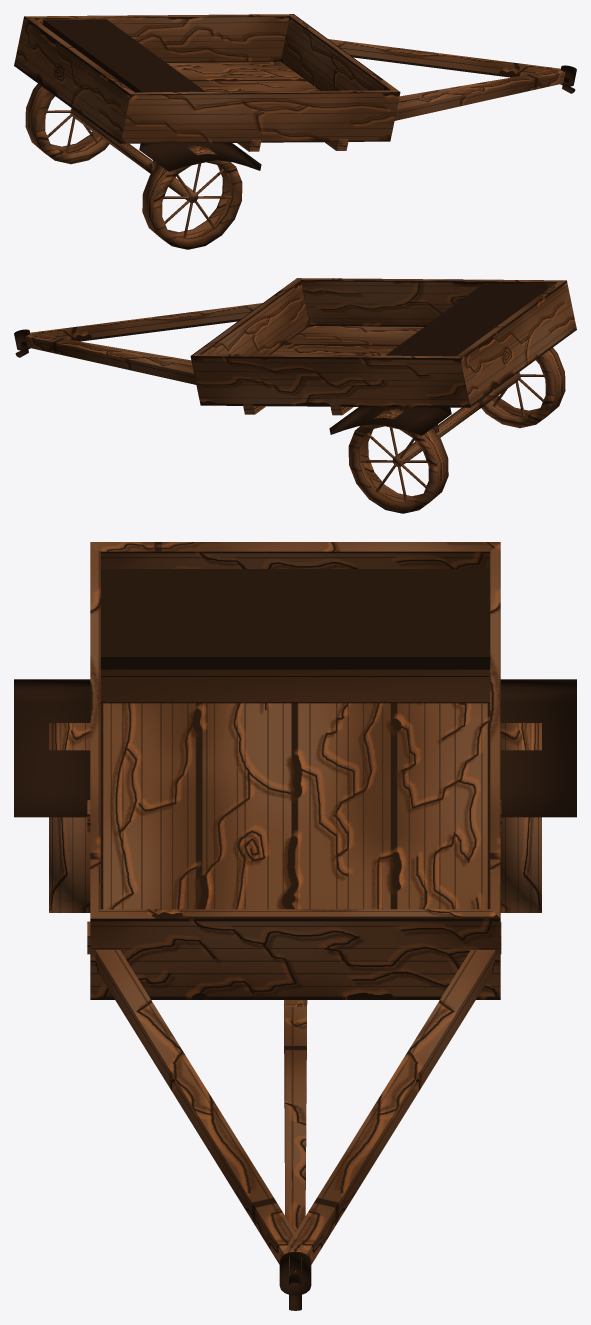
The model's file is model_Carroça_01.fbx.
The picture shows the model from 3 angles, top to bottom: view 1: azimuth 30°, elevation 25°; view 2: azimuth 150°, elevation 25°; view 3: azimuth 270°, elevation 25°; orthographic projection. The views are drawn at different scales.
Visible parts, largest first — view 1: Cube, Cylinder.002, Cube.002, Cube.001, Cube.006, Cylinder.003, Cylinder.004, Cube.007, Cylinder.001; view 2: Cube, Cylinder.002, Cube.002, Cube.001, Cube.006, Cylinder.003, Cylinder.004, Cube.007, Cylinder.001; view 3: Cube, Cube.001, Cube.002, Cube.006, Cylinder.002, Cube.007, Cylinder.001.
Boxes of the visible parts, left/top/right/bottom form: Cube: left=14, top=14, right=400, bottom=143; Cylinder.002: left=25, top=84, right=242, bottom=249; Cube.002: left=328, top=39, right=565, bottom=120; Cube.001: left=43, top=19, right=204, bottom=92; Cube.006: left=139, top=143, right=261, bottom=171; Cylinder.003: left=70, top=108, right=198, bottom=202; Cylinder.004: left=47, top=108, right=231, bottom=238; Cube.007: left=398, top=76, right=520, bottom=103; Cylinder.001: left=560, top=65, right=576, bottom=93; Cube: left=190, top=278, right=576, bottom=407; Cylinder.002: left=348, top=348, right=565, bottom=513; Cube.002: left=25, top=303, right=262, bottom=384; Cube.001: left=386, top=283, right=547, bottom=356; Cube.006: left=329, top=407, right=451, bottom=435; Cylinder.003: left=392, top=372, right=520, bottom=466; Cylinder.004: left=359, top=372, right=543, bottom=502; Cube.007: left=69, top=339, right=192, bottom=367; Cylinder.001: left=14, top=329, right=30, bottom=357; Cube: left=90, top=542, right=500, bottom=999; Cube.001: left=100, top=569, right=490, bottom=703; Cube.002: left=95, top=950, right=495, bottom=1273; Cube.006: left=14, top=679, right=576, bottom=817; Cylinder.002: left=49, top=723, right=541, bottom=912; Cube.007: left=284, top=1000, right=307, bottom=1272; Cylinder.001: left=279, top=1251, right=311, bottom=1310.
Size of the model in its own units: 1103 by 331 by 548.
